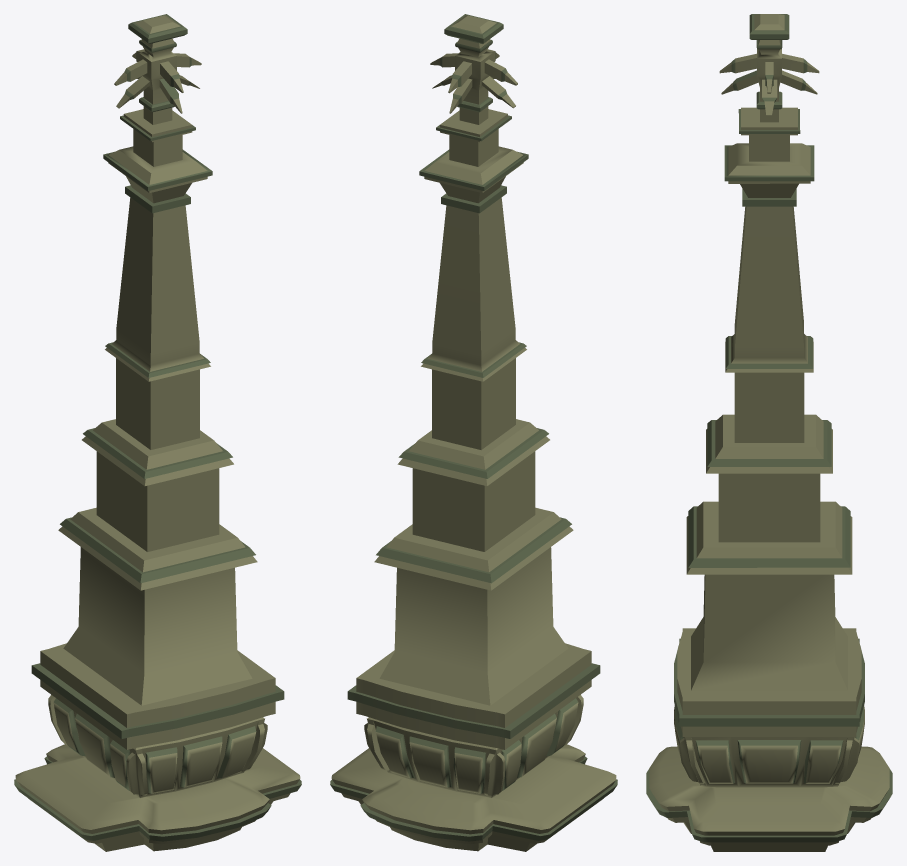
The model's file is pillar003.fbx.
3 views of the same model, side by side, from view 1: azimuth 30°, elevation 25°; view 2: azimuth 150°, elevation 25°; view 3: azimuth 270°, elevation 25° (orthographic).
Visible parts, largest first — view 1: pillar003; view 2: pillar003; view 3: pillar003.
Part boxes in pixels (bbox=[...]): pillar003: bbox=[14, 14, 301, 851]; pillar003: bbox=[330, 14, 617, 851]; pillar003: bbox=[646, 14, 892, 851].
Size of the model in its own units: 1.4 by 4.82 by 1.36.
